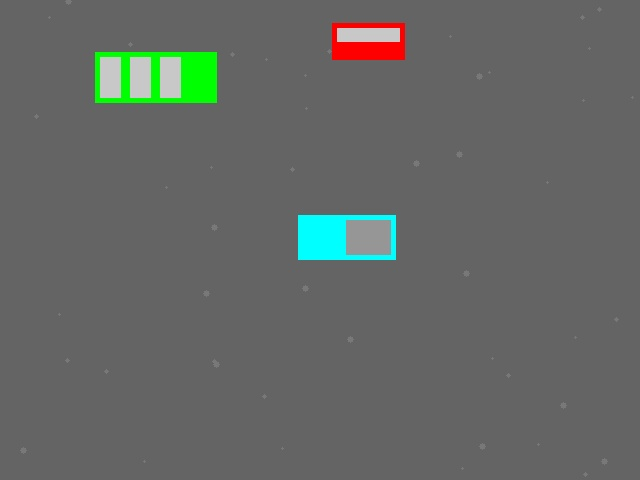bus: (95, 52, 216, 102)
car: (332, 23, 404, 59)
truck: (298, 215, 395, 259)
